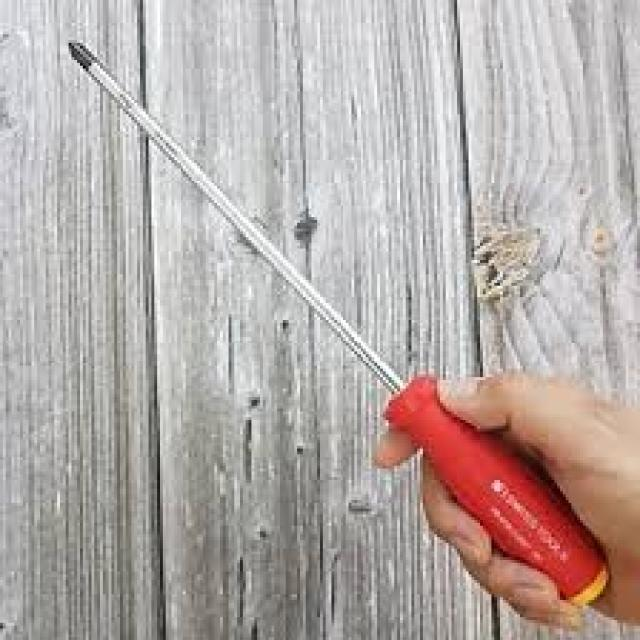screwdriver: (66, 38, 614, 613)
